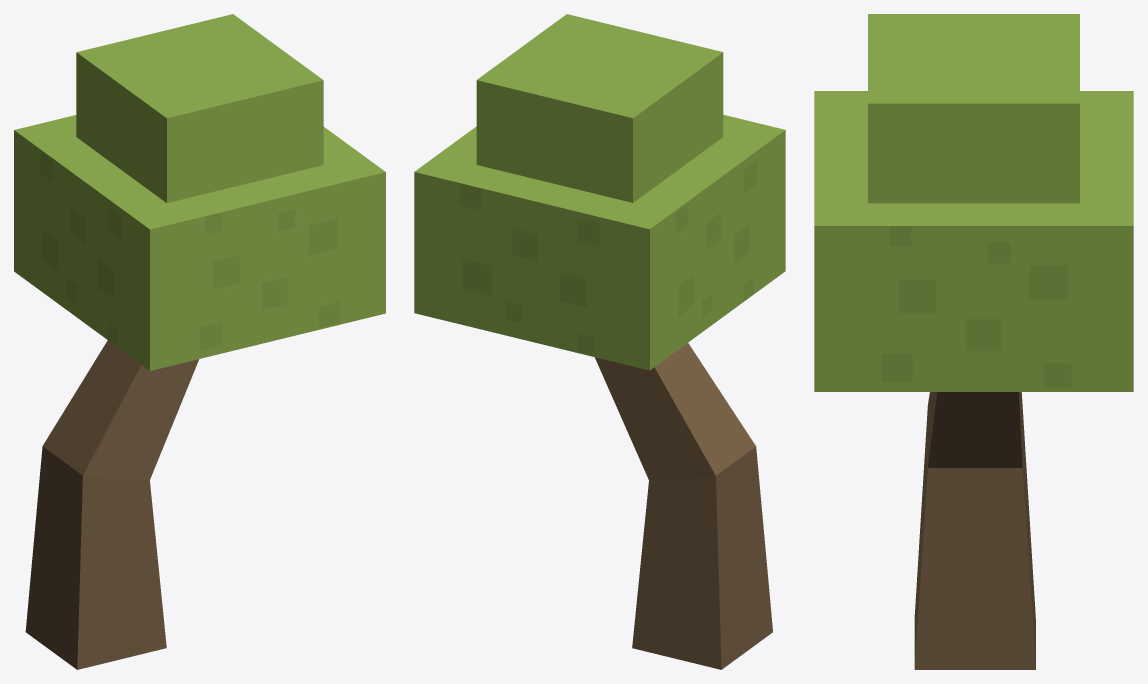
Rendered from Tree_03.fbx.
3 renders of one model, left to right at view 1: azimuth 30°, elevation 25°; view 2: azimuth 150°, elevation 25°; view 3: azimuth 270°, elevation 25°, orthographic. The views are drawn at different scales.
Visible parts, largest first — view 1: Tree_03; view 2: Tree_03; view 3: Tree_03.
Part boxes in pixels (left/top/right/bottom): Tree_03: left=14, top=14, right=385, bottom=669; Tree_03: left=414, top=14, right=785, bottom=669; Tree_03: left=814, top=14, right=1133, bottom=669.
Size of the model in its own units: 1.77 by 3.5 by 1.57.
